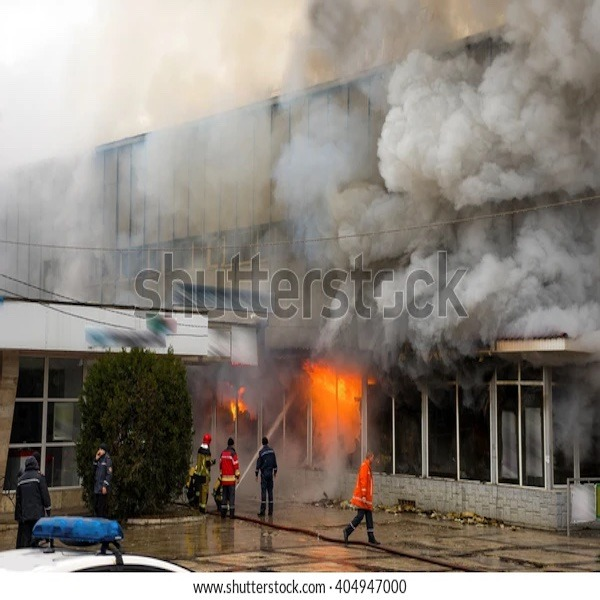fire: (311, 334, 377, 465), (223, 373, 269, 423)
